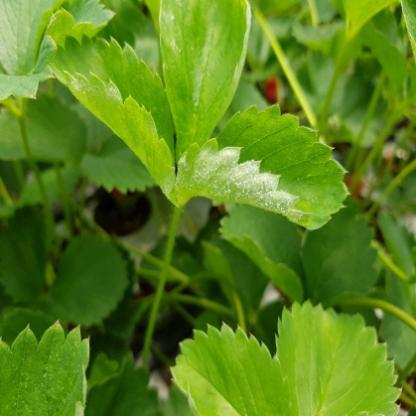Strawberry_Powdery_Mildew_Leaf: (169, 102, 351, 230), (47, 33, 176, 198), (158, 0, 254, 163)
